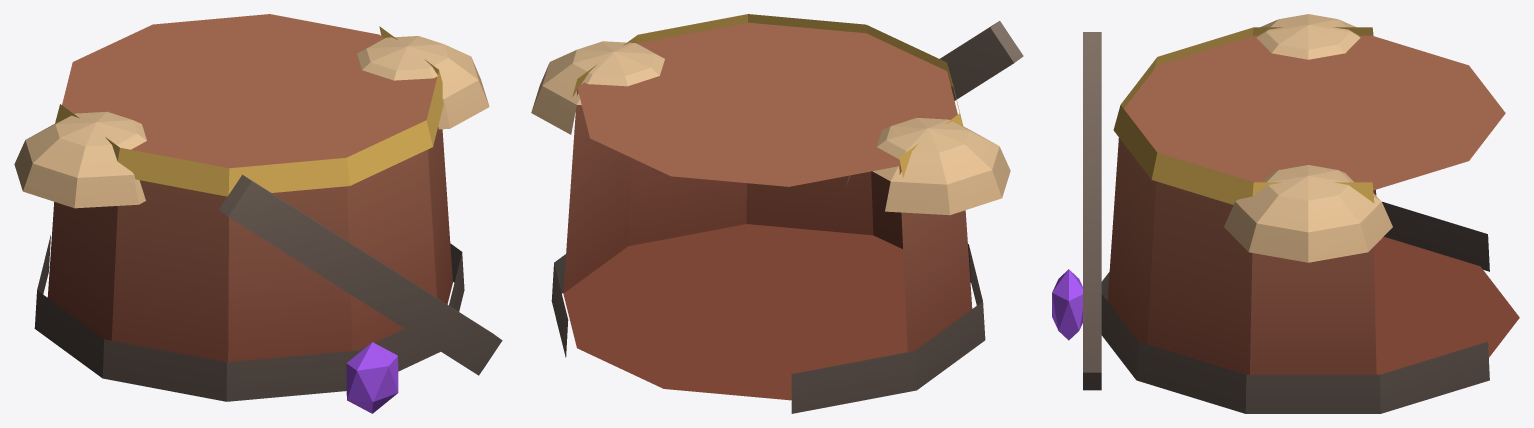
File: engineer_hunter_chest_t3.glb
3 renders of one model, left to right at view 1: azimuth 30°, elevation 25°; view 2: azimuth 150°, elevation 25°; view 3: azimuth 270°, elevation 25°, orthographic.
Visible parts, largest first — view 1: engineer_hunter_chest_t3__chest; view 2: engineer_hunter_chest_t3__chest; view 3: engineer_hunter_chest_t3__chest.
Boxes of the visible parts, x1,y1,x2,y2 form: engineer_hunter_chest_t3__chest: [14, 14, 502, 413]; engineer_hunter_chest_t3__chest: [531, 14, 1023, 413]; engineer_hunter_chest_t3__chest: [1052, 14, 1519, 413].
Bounding box in the file's own units: 1.12 × 0.5956 × 0.9957.
Materials: 2 (1 with a texture image).
